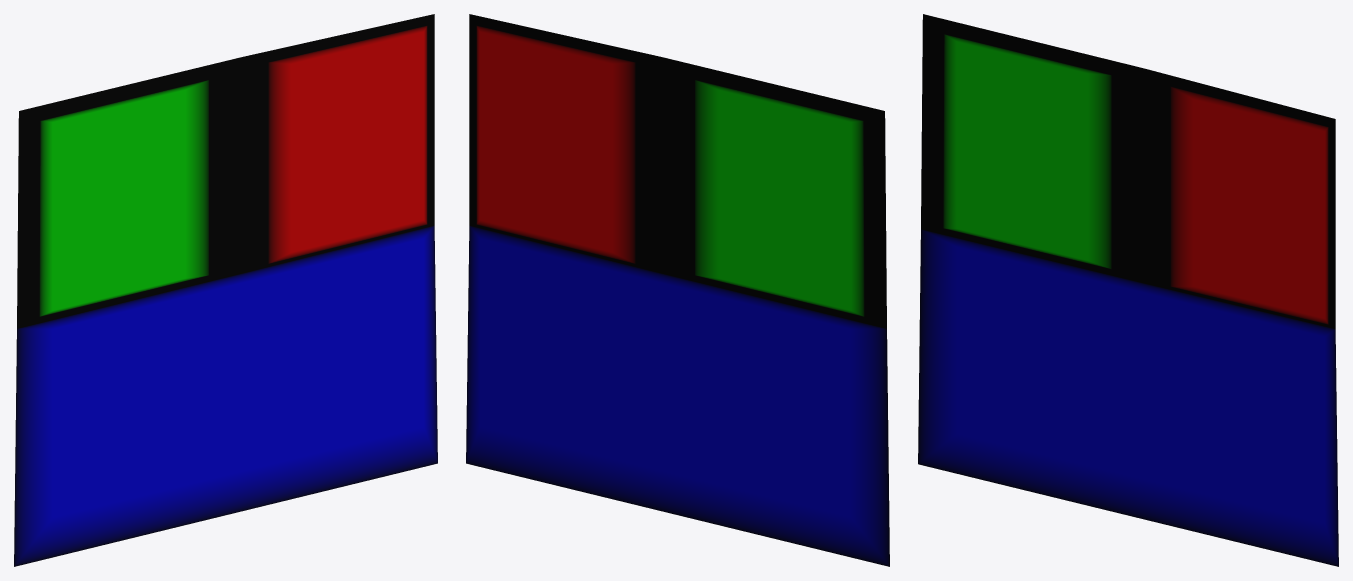
Rendered from SM_FaceTest_01.fbx.
3 renders of one model, left to right at view 1: azimuth 30°, elevation 25°; view 2: azimuth 150°, elevation 25°; view 3: azimuth 330°, elevation 25°, orthographic.
Parts seen in each view (by area): view 1: Cube; view 2: Cube; view 3: Cube.
Boxes of the visible parts, left/top/right/bottom form: Cube: left=14, top=14, right=437, bottom=566; Cube: left=466, top=14, right=889, bottom=566; Cube: left=918, top=14, right=1338, bottom=566.
Size of the model in its own units: 366 by 375 by 2.98e-08.
